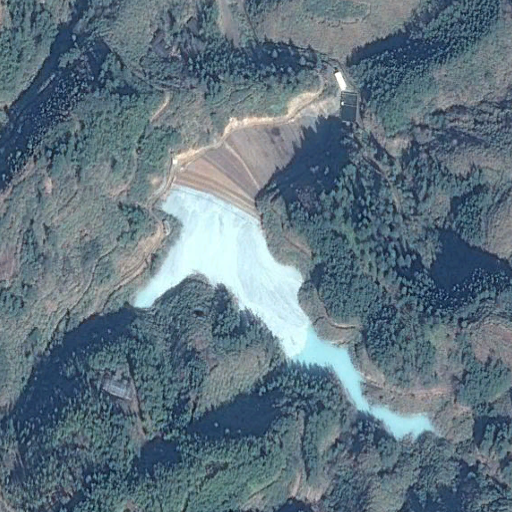tp: (132, 94, 443, 440)
